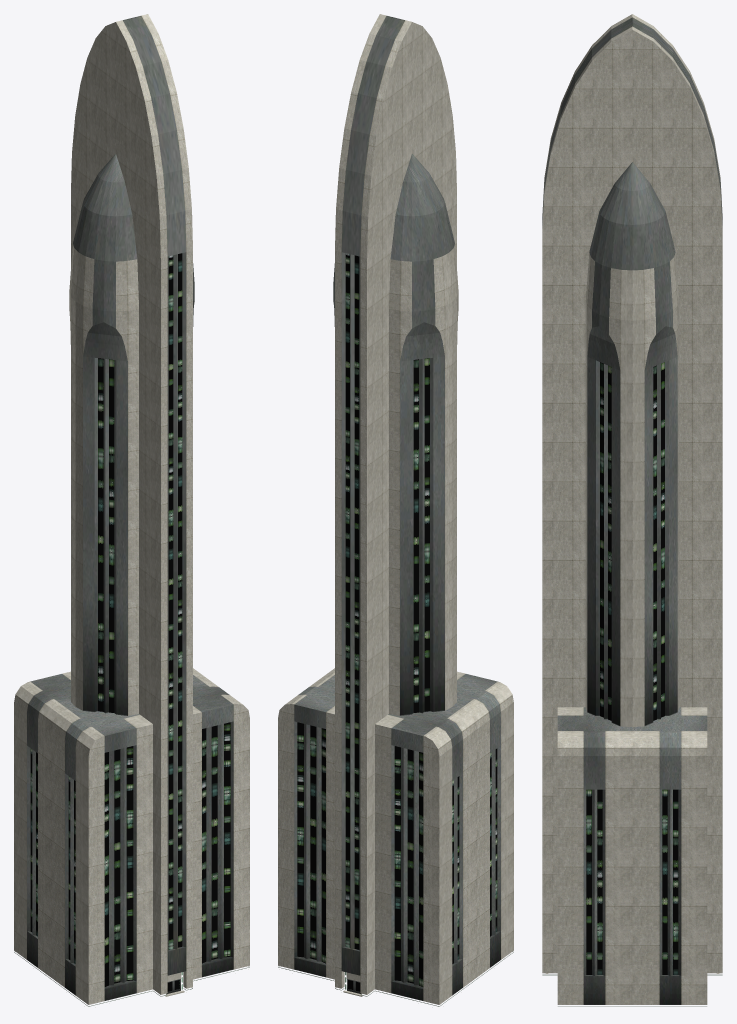
File: thm_corl_skyskraper_s02_l0.fbx
3 views of the same model, side by side, from view 1: azimuth 30°, elevation 25°; view 2: azimuth 150°, elevation 25°; view 3: azimuth 270°, elevation 25° (orthographic).
Parts seen in each view (by area): view 1: mesh_node; view 2: mesh_node; view 3: mesh_node.
Boxes of the visible parts, box(x1,y1,x2,y2) form: mesh_node: box(14, 14, 249, 1006); mesh_node: box(278, 14, 513, 1006); mesh_node: box(542, 14, 722, 1006).
Size of the model in its own units: 34.5 by 193 by 33.32.
